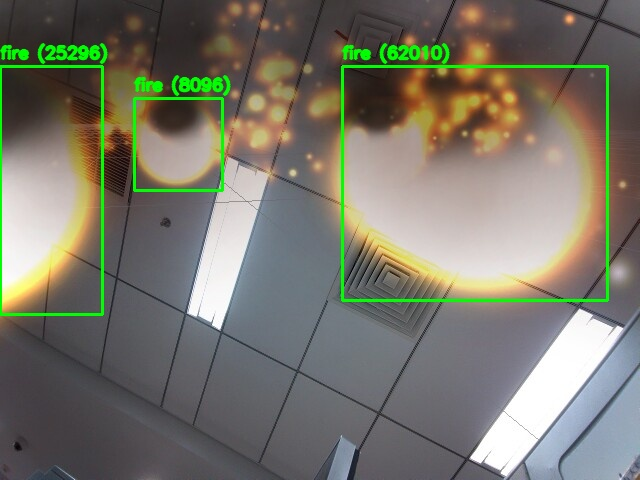fire: (342, 66, 607, 300), (0, 66, 102, 314), (134, 98, 222, 190)
